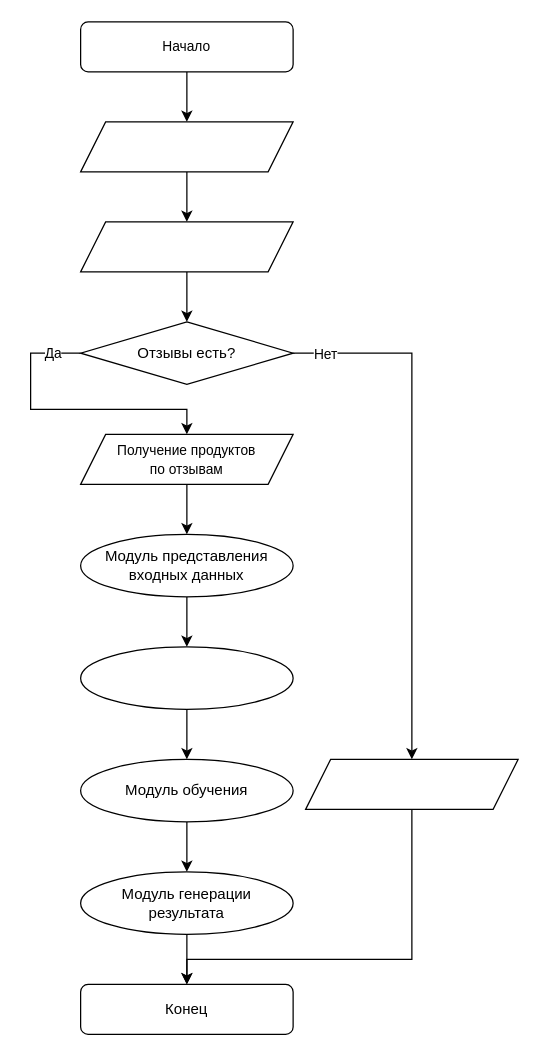
The diagram is 540 pixels wide and 1056 high, and some of its shapes have lost their labels. Each missing label, with the centre of its shape:
"Возвращаем пустой список" belongs at point 411,783.
"Модуль формирования топологии" belongs at point 186,677.
"Получение идентификатора пользователя" belongs at point 186,146.
"Получение отзывов пользователя" belongs at point 186,246.
